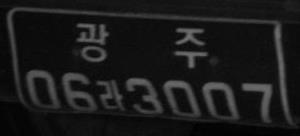0: (163, 80, 202, 118), (203, 81, 240, 121), (25, 68, 60, 110)
3: (126, 77, 164, 114)
6: (61, 71, 98, 112)
7: (241, 81, 274, 124)
광주_D: (76, 21, 208, 69)
라: (98, 79, 125, 111)
